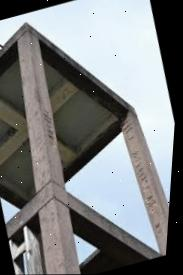exposed_rebar: (130, 151, 156, 229), (43, 109, 55, 144), (121, 114, 134, 138)
